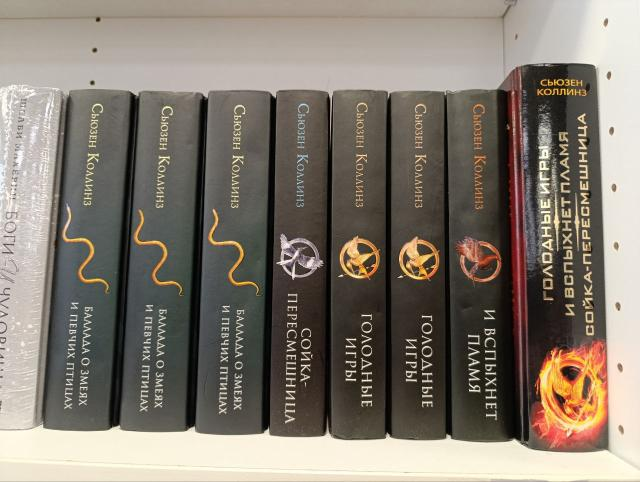book-s-spine: (516, 63, 610, 454), (42, 88, 132, 433), (118, 89, 204, 434), (194, 90, 271, 436), (445, 88, 515, 443), (0, 85, 64, 432), (268, 87, 329, 438), (331, 88, 388, 441), (390, 90, 446, 441)
